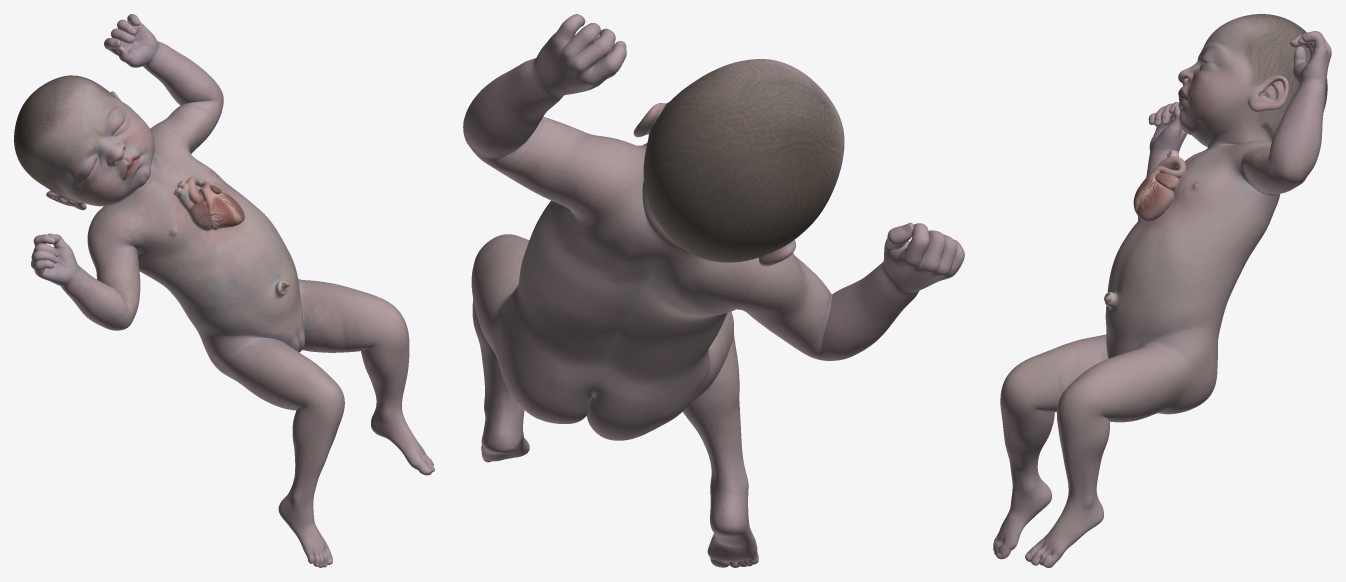
Rendered from ectopiacordis-v1.glb.
The picture shows the model from 3 angles, left to right: view 1: azimuth 30°, elevation 25°; view 2: azimuth 150°, elevation 25°; view 3: azimuth 270°, elevation 25°; orthographic projection. The views are drawn at different scales.
Bounding box in the file's own units: 1.51 × 1.9 × 1.17.
Materials: 1 (1 with a texture image).
